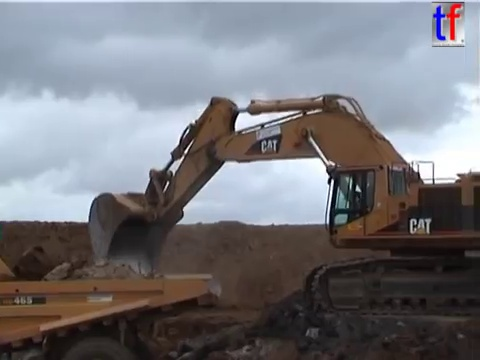excavator: (85, 89, 479, 321)
truck: (1, 255, 223, 360)
